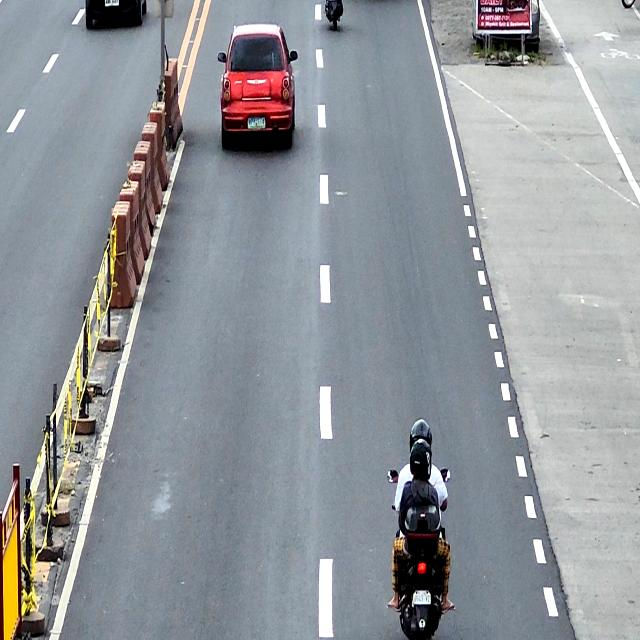Car: (217, 24, 298, 152)
License-Plate: (412, 590, 432, 605), (247, 117, 266, 129), (104, 0, 120, 7)
Motorcycle: (388, 463, 451, 640)
